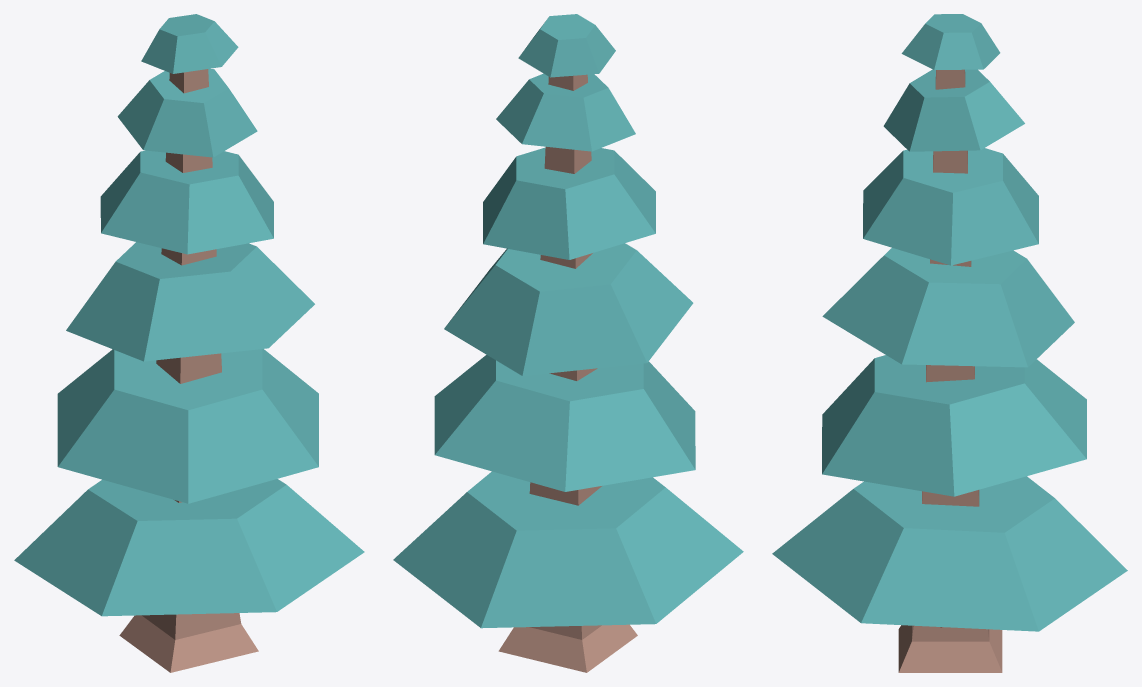
The model's file is tree_pineRoundB.glb.
3 renders of one model, left to right at view 1: azimuth 30°, elevation 25°; view 2: azimuth 150°, elevation 25°; view 3: azimuth 270°, elevation 25°, orthographic.
Parts seen in each view (by area): view 1: tree_pineRoundB; view 2: tree_pineRoundB; view 3: tree_pineRoundB.
Part boxes in pixels (left/top/right/bottom): tree_pineRoundB: left=14, top=14, right=364, bottom=672; tree_pineRoundB: left=393, top=14, right=743, bottom=672; tree_pineRoundB: left=772, top=14, right=1127, bottom=672.
Size of the model in its own units: 0.5322 by 1.2 by 0.6132.
